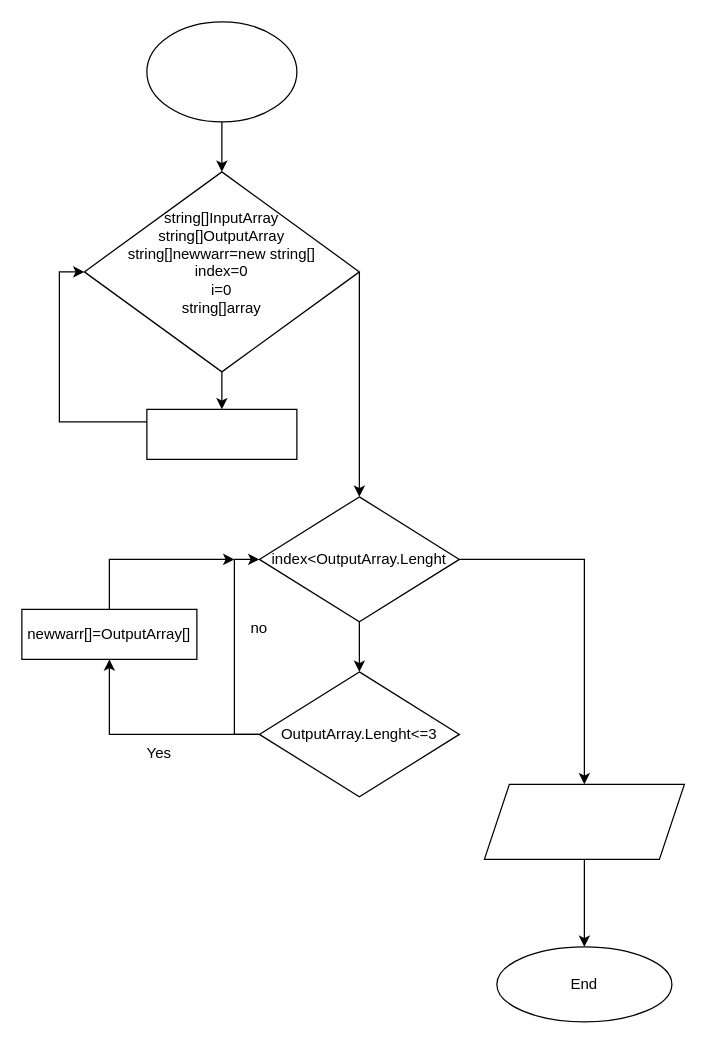
Image size: 706x1044. Some labels were removed from this diagram. Each missing label, with the centre of its shape:
index=index+1: (221,433)
Print"InputArray[]" Print"OutputArray[]": (583,821)
Start: (221,71)
